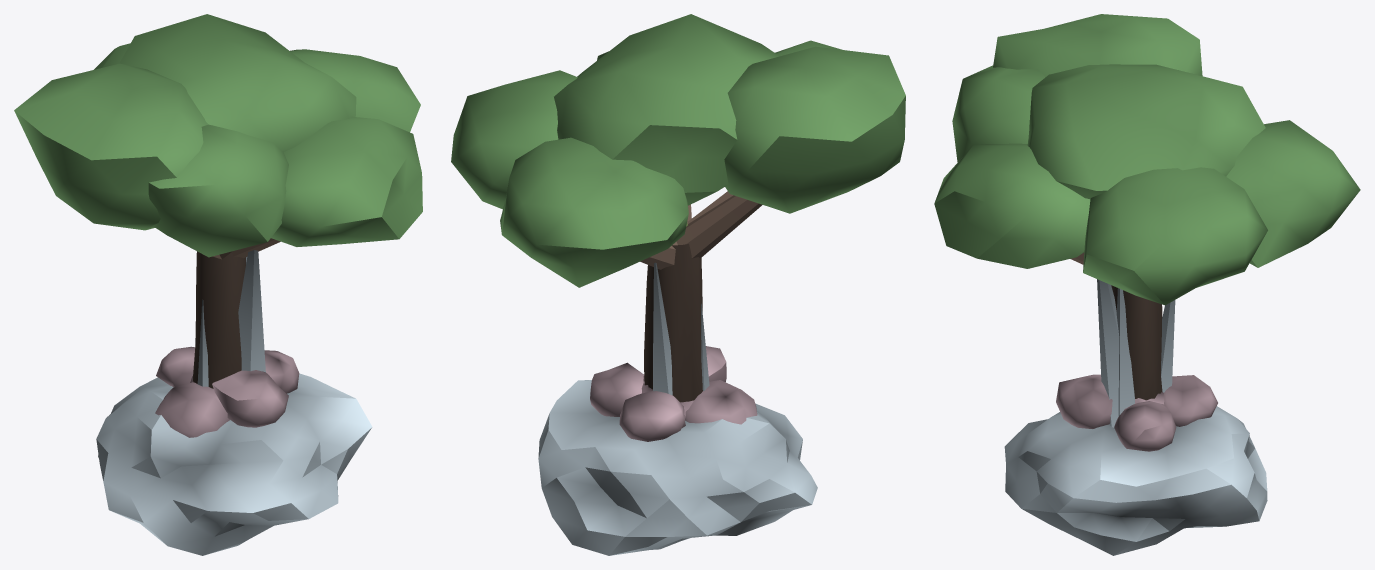
The model's file is flora.glb.
3 renders of one model, left to right at view 1: azimuth 30°, elevation 25°; view 2: azimuth 150°, elevation 25°; view 3: azimuth 270°, elevation 25°, orthographic. The views are drawn at different scales.
Visible parts, largest first — view 1: giant_tree, iceberg, cherry, ice_spire; view 2: giant_tree, iceberg, cherry, ice_spire; view 3: giant_tree, iceberg, cherry, ice_spire.
Boxes of the visible parts, left/top/right/bottom form: giant_tree: left=14, top=14, right=422, bottom=388; iceberg: left=96, top=373, right=372, bottom=555; cherry: left=155, top=346, right=299, bottom=437; ice_spire: left=195, top=250, right=265, bottom=386; giant_tree: left=451, top=14, right=905, bottom=402; iceberg: left=538, top=380, right=817, bottom=555; cherry: left=590, top=346, right=757, bottom=441; ice_spire: left=653, top=262, right=709, bottom=395; giant_tree: left=934, top=14, right=1360, bottom=400; iceberg: left=1004, top=406, right=1267, bottom=555; cherry: left=1056, top=374, right=1217, bottom=451; ice_spire: left=1097, top=279, right=1175, bottom=427.
Bounding box in the file's own units: 21.02 × 24.55 × 20.77.
